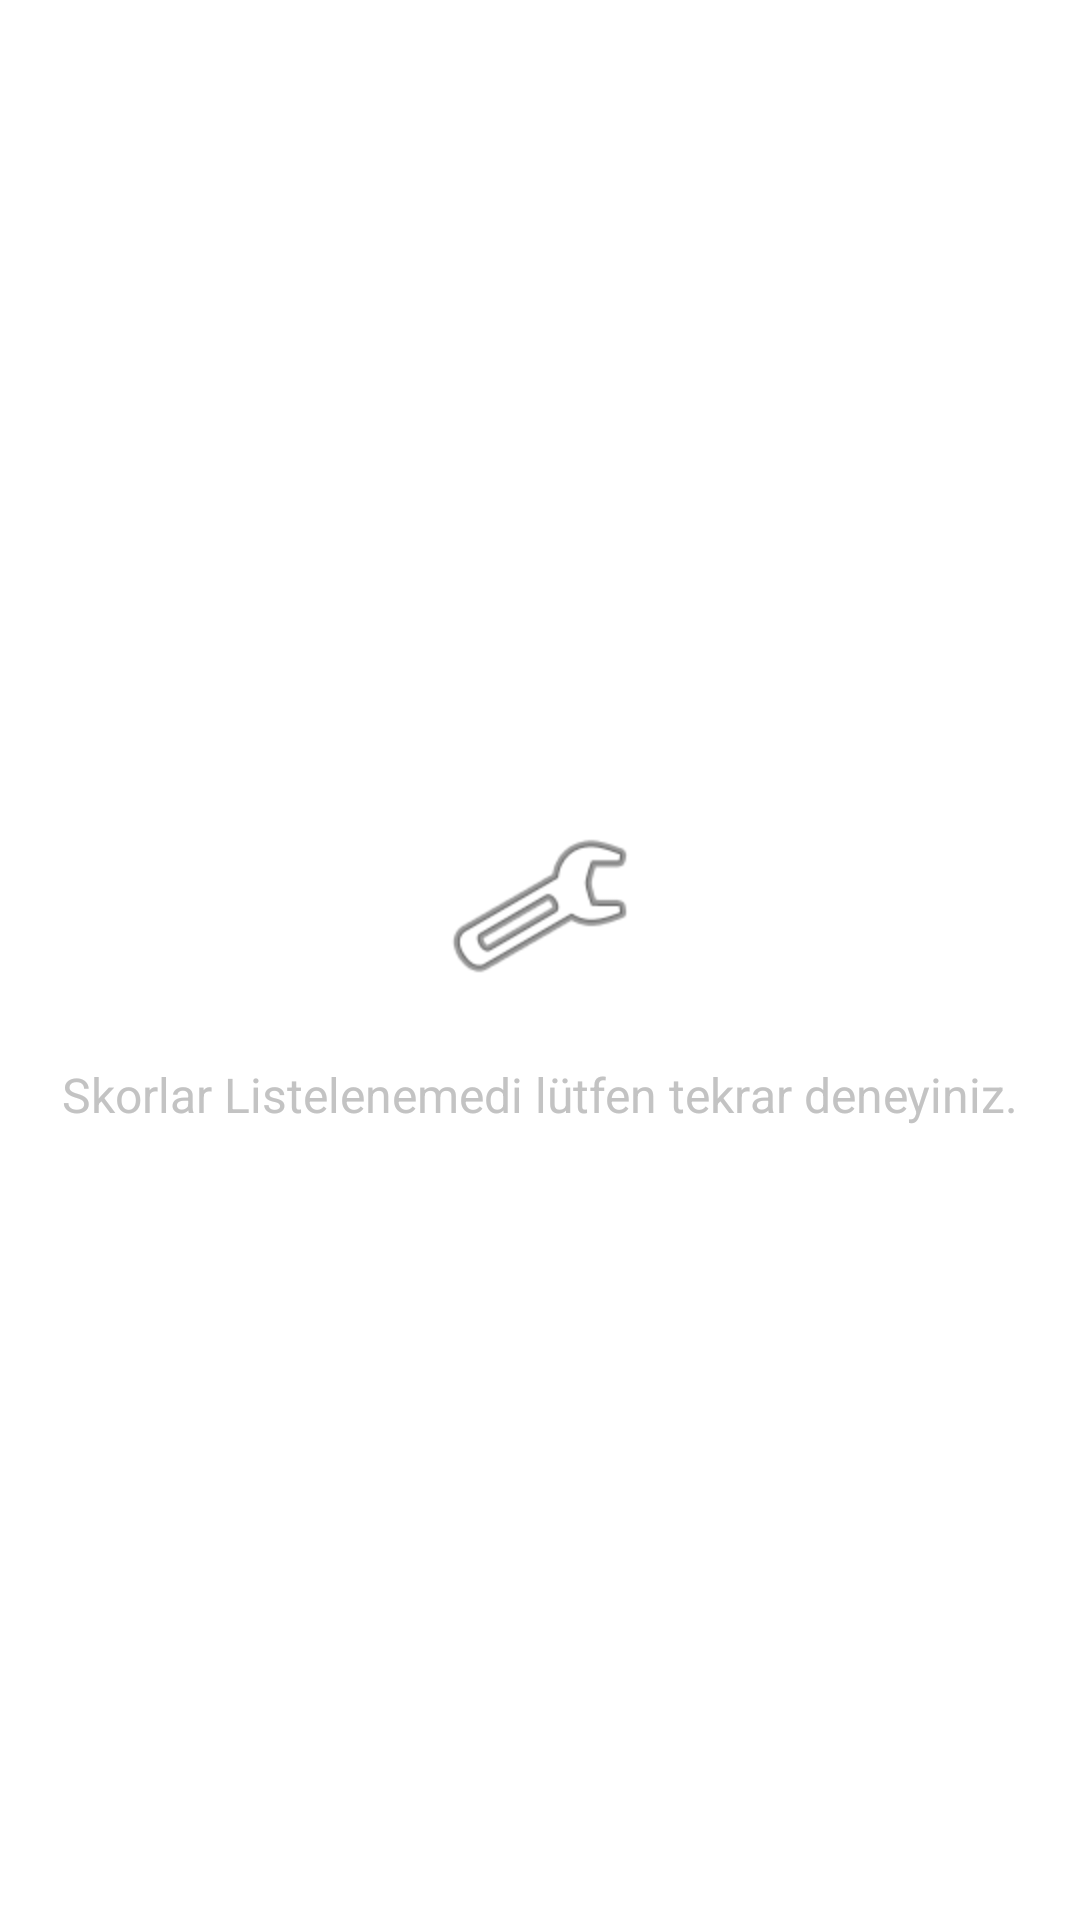

Locate icon controls on the screen. Image size 1080 x 1920, boxes as bbox=(x1, y1, x2, y2).
preferences: bbox=(453, 840, 627, 972)
